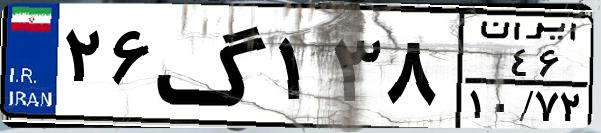0: (495, 70, 520, 125)
1: (270, 28, 330, 110), (470, 70, 495, 125)
2: (57, 26, 110, 100), (560, 70, 590, 125)
3: (330, 28, 385, 110)
4: (508, 27, 537, 80)
6: (110, 28, 156, 98), (537, 27, 568, 80)
7: (535, 70, 560, 125)
8: (385, 28, 445, 110)
گ: (156, 12, 270, 120)
